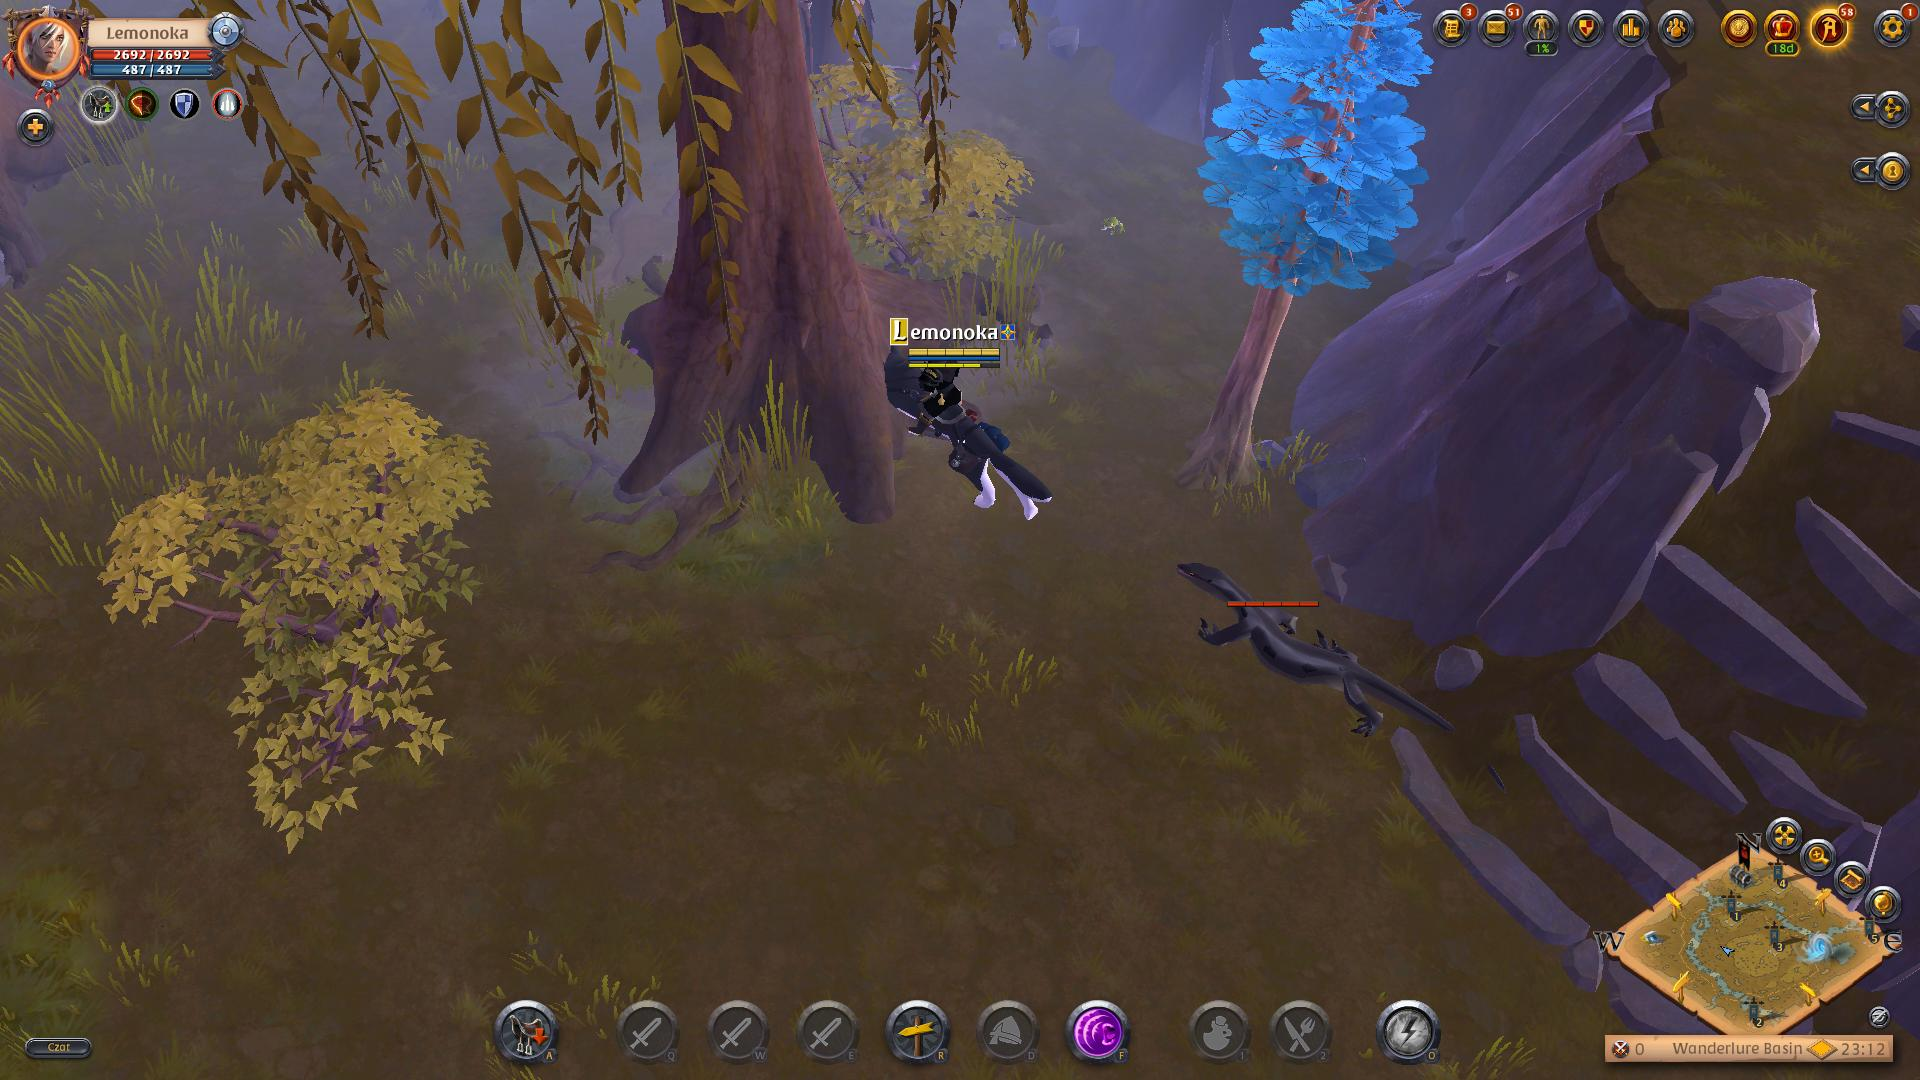wood tier 4: (1205, 0, 1439, 298)
